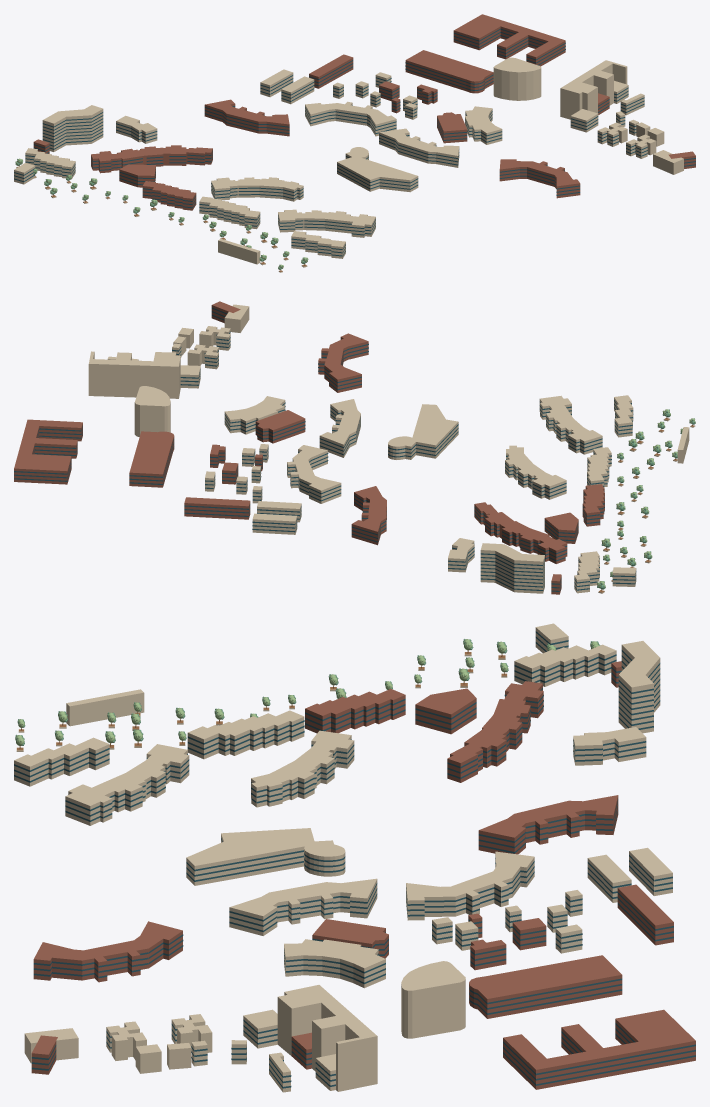
The picture shows the model from 3 angles, top to bottom: view 1: azimuth 30°, elevation 25°; view 2: azimuth 150°, elevation 25°; view 3: azimuth 270°, elevation 25°; orthographic projection. The views are drawn at different scales.
Parts seen in each view (by area): view 1: osm-way-1429697247, osm-way-1429734791, osm-way-1429697262, osm-way-1429697339, osm-relation-19600208, osm-way-1429697263, osm-way-1429697324, osm-way-1429697322, osm-way-1429697394, osm-way-1429697323, osm-way-1429697371, osm-way-1198910515 (+19 smaller); view 2: osm-way-1429697247, osm-way-1429734791, osm-way-1429697339, osm-way-1429697262, osm-way-1429697324, osm-relation-19600208, osm-way-1429697394, osm-way-1429697323, osm-way-1429697322, osm-way-1429697263, osm-way-1429697310, osm-way-1198910515 (+17 smaller); view 3: osm-way-1429697247, osm-way-1429734791, osm-way-1429697262, osm-relation-19600208, osm-way-1429697394, osm-way-1429697323, osm-way-1429697322, osm-way-1429697324, osm-way-1429697263, osm-way-1198910515, osm-way-1429697371, osm-way-1429697339 (+32 smaller).
Part boxes in pixels (<box>): osm-way-1429697247: <box>453,14,565,66</box>; osm-way-1429734791: <box>560,60,627,119</box>; osm-way-1429697262: <box>405,50,493,93</box>; osm-way-1429697339: <box>42,105,103,151</box>; osm-relation-19600208: <box>337,152,418,192</box>; osm-way-1429697263: <box>493,57,541,100</box>; osm-way-1429697324: <box>305,101,396,136</box>; osm-way-1429697322: <box>204,99,289,136</box>; osm-way-1429697394: <box>499,159,580,198</box>; osm-way-1429697323: <box>379,128,459,167</box>; osm-way-1429697371: <box>199,196,260,229</box>; osm-way-1198910515: <box>465,106,502,144</box>; osm-way-1429697247: <box>14,419,82,484</box>; osm-way-1429734791: <box>88,351,180,398</box>; osm-way-1429697339: <box>480,543,544,593</box>; osm-way-1429697262: <box>129,431,174,487</box>; osm-way-1429697324: <box>287,445,341,503</box>; osm-relation-19600208: <box>405,404,458,459</box>; osm-way-1429697394: <box>318,333,368,392</box>; osm-way-1429697323: <box>319,399,360,457</box>; osm-way-1429697322: <box>351,486,386,545</box>; osm-way-1429697263: <box>134,386,170,436</box>; osm-way-1429697310: <box>184,497,250,519</box>; osm-way-1198910515: <box>224,396,285,434</box>; osm-way-1429697247: <box>503,1009,695,1089</box>; osm-way-1429734791: <box>277,985,377,1091</box>; osm-way-1429697262: <box>469,955,622,1018</box>; osm-relation-19600208: <box>186,828,333,885</box>; osm-way-1429697394: <box>33,921,183,982</box>; osm-way-1429697323: <box>229,878,377,935</box>; osm-way-1429697322: <box>478,795,618,854</box>; osm-way-1429697324: <box>406,851,534,920</box>; osm-way-1429697263: <box>401,961,465,1038</box>; osm-way-1198910515: <box>284,939,385,988</box>; osm-way-1429697371: <box>187,710,304,759</box>; osm-way-1429697339: <box>618,641,660,733</box>.
Size of the model in its own units: 723 by 36 by 464.
